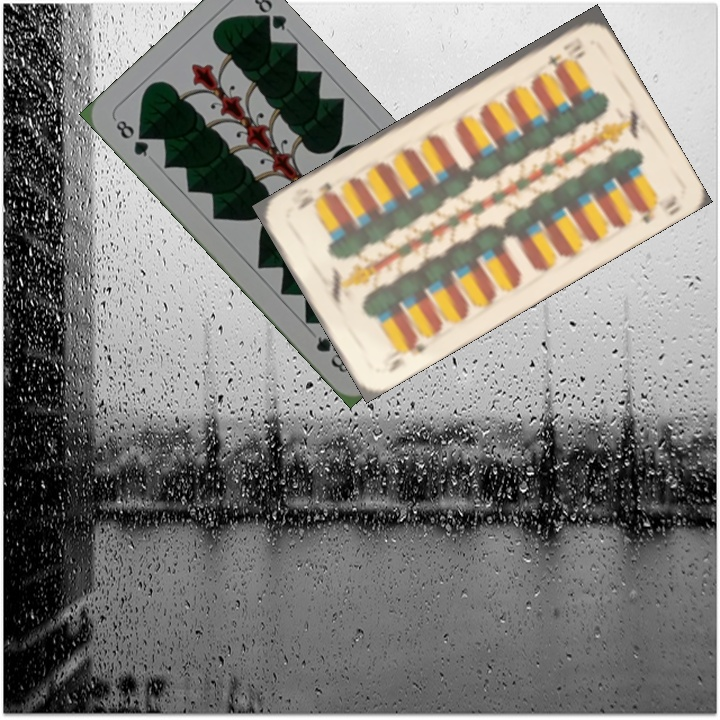E10: (383, 333, 429, 376), (542, 33, 586, 69)
G8: (110, 114, 152, 160)
